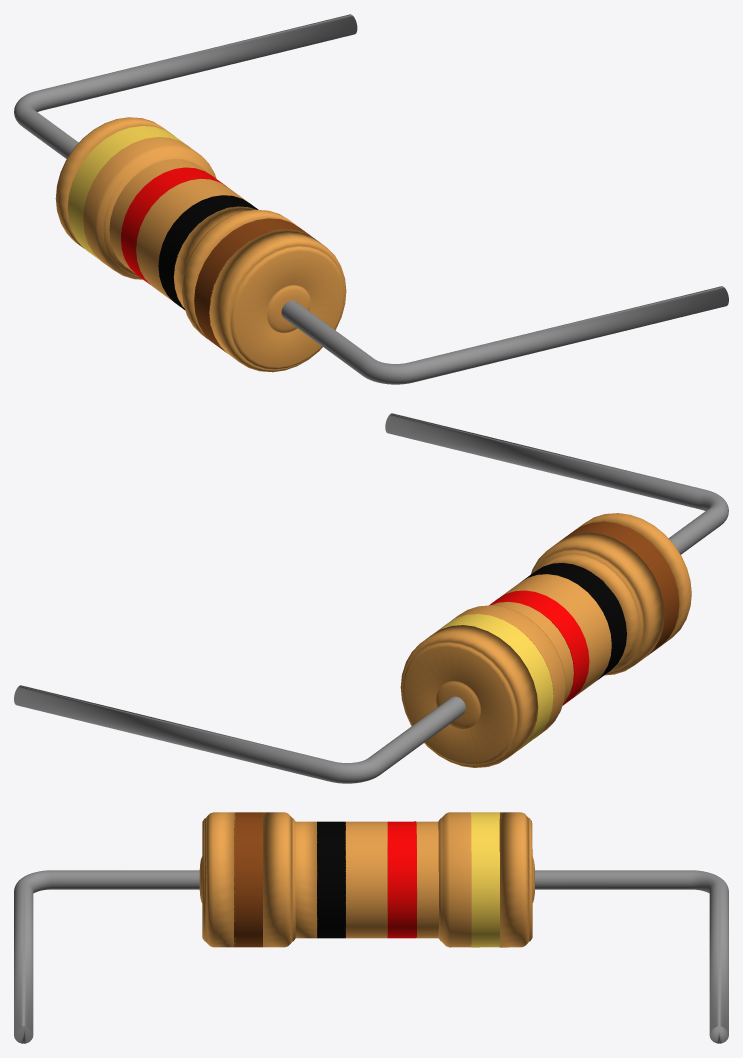
The model's file is resistencia_1000_ohms.fbx.
3 views of the same model, one above another, from view 1: azimuth 30°, elevation 25°; view 2: azimuth 150°, elevation 25°; view 3: azimuth 270°, elevation 25° (orthographic). The views are drawn at different scales.
Parts seen in each view (by area): view 1: Cilindro10, Cilindro01, Cilindro07, Cilindro03, Cilindro05, Cilindro08, Cilindro02, Cilindro06, Cilindro04, Cilindro09; view 2: Cilindro10, Cilindro09, Cilindro03, Cilindro07, Cilindro05, Cilindro08, Cilindro02, Cilindro06, Cilindro04, Cilindro01; view 3: Cilindro10, Cilindro07, Cilindro03, Cilindro05, Cilindro09, Cilindro01, Cilindro08, Cilindro02, Cilindro06, Cilindro04.
Boxes of the visible parts, x1,y1,x2,y2 form: Cilindro10: (14,14,728,384); Cilindro01: (209,229,346,372); Cilindro07: (83,137,216,279); Cilindro03: (173,206,299,341); Cilindro05: (136,178,248,301); Cilindro08: (67,126,188,259); Cilindro02: (194,218,314,352); Cilindro06: (121,167,226,284); Cilindro04: (158,195,258,309); Cilindro09: (55,117,173,248); Cilindro10: (14,413,728,783); Cilindro09: (400,625,538,767); Cilindro03: (531,532,664,675); Cilindro07: (450,602,573,737); Cilindro05: (500,574,611,696); Cilindro08: (435,614,553,748); Cilindro02: (559,521,679,655); Cilindro06: (489,590,589,705); Cilindro04: (521,563,626,680); Cilindro01: (575,513,691,644); Cilindro10: (14,870,728,1043); Cilindro07: (416,812,471,947); Cilindro03: (263,812,317,947); Cilindro05: (345,821,387,938); Cilindro09: (499,812,534,947); Cilindro01: (199,812,235,947); Cilindro08: (471,812,499,947); Cilindro02: (234,812,262,947); Cilindro06: (387,821,416,938); Cilindro04: (317,821,345,938).
Bounding box in the file's own units: 4498 × 1400 × 7398.
